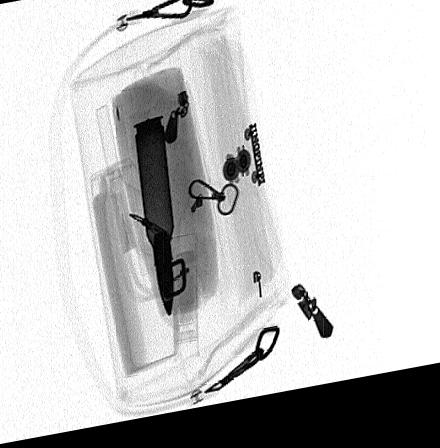Bullet: (133, 122, 173, 324)
